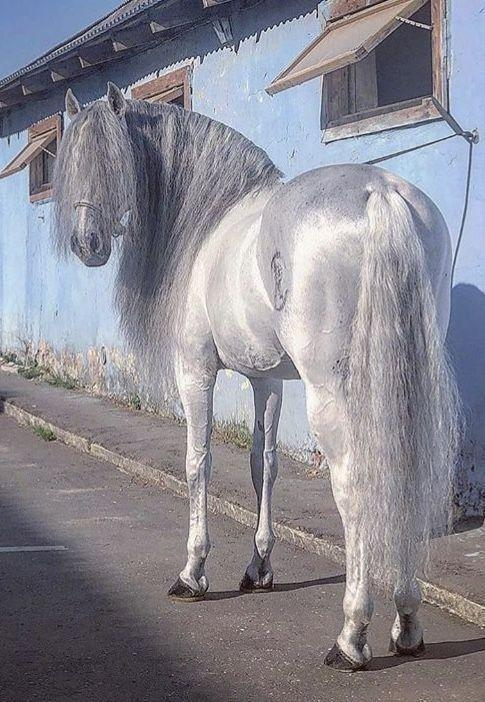horse: (49, 80, 465, 672)
